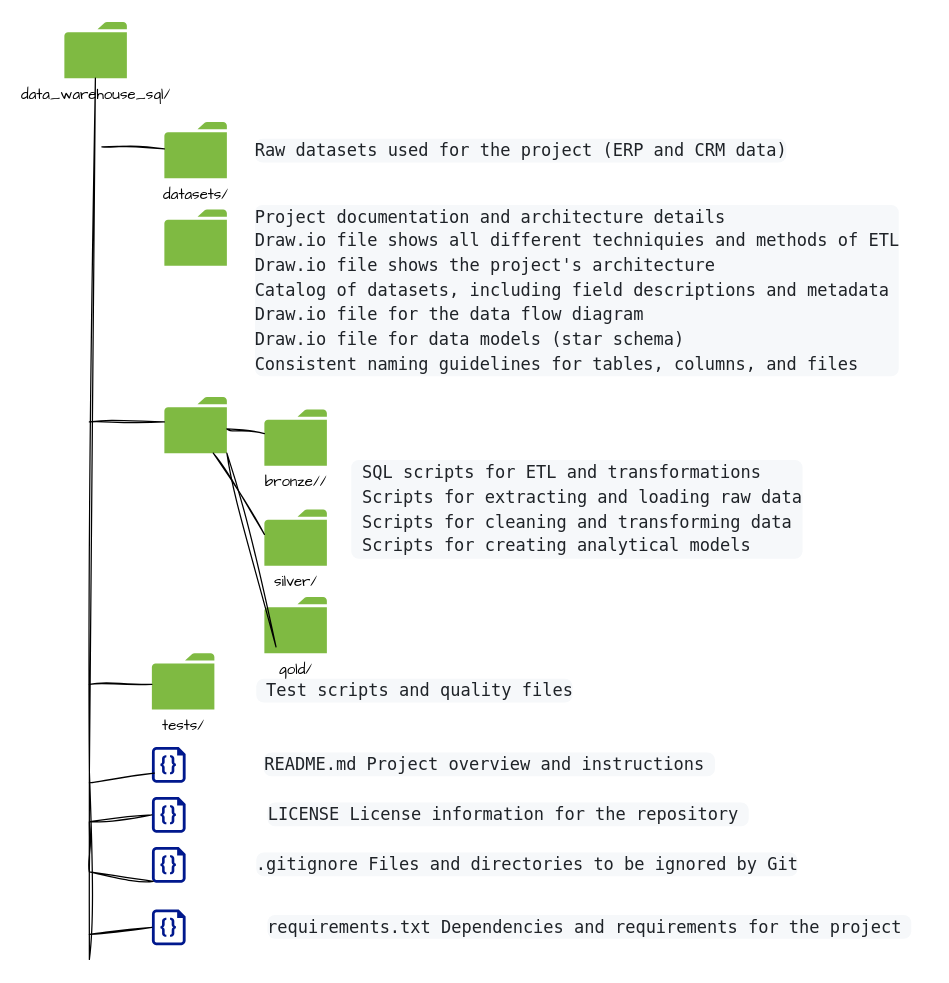
Image size: 949x983. Some labels were removed from this diagram. The centre of each missing label's shape, as x and y in pixels:
"docs/" belongs at point 195,237.
"scripts/" belongs at point 195,424.
